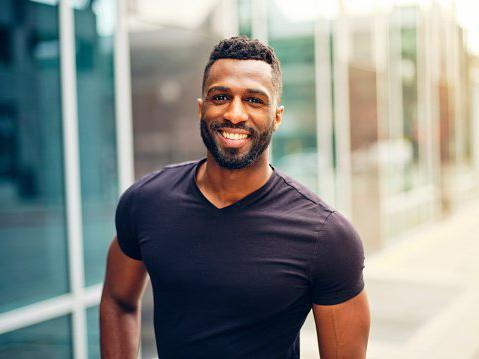Sober: (204, 57, 274, 168)
